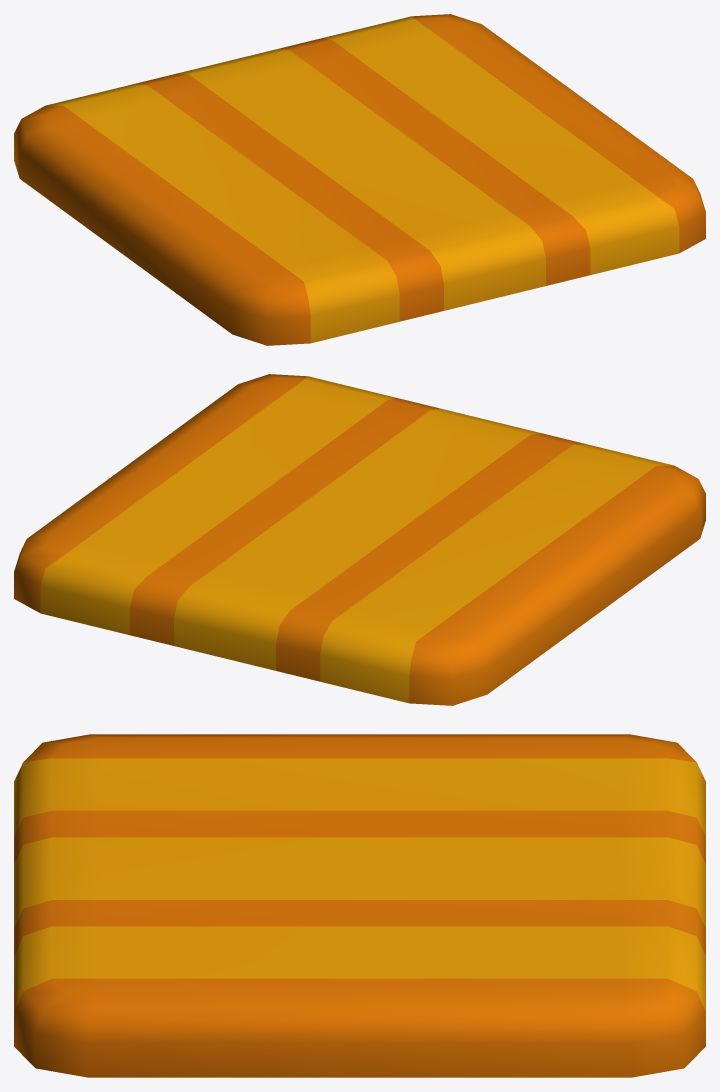
Rendered from SM_FarmField.fbx.
3 views of the same model, one above another, from view 1: azimuth 30°, elevation 25°; view 2: azimuth 150°, elevation 25°; view 3: azimuth 270°, elevation 25° (orthographic). The views are drawn at different scales.
Parts seen in each view (by area): view 1: SM_FarmField; view 2: SM_FarmField; view 3: SM_FarmField.
Boxes of the visible parts, bbox=[...] form: SM_FarmField: bbox=[14, 14, 705, 345]; SM_FarmField: bbox=[14, 374, 705, 705]; SM_FarmField: bbox=[14, 734, 705, 1077].
Bounding box in the file's own units: 6.3 × 0.63 × 6.3.
